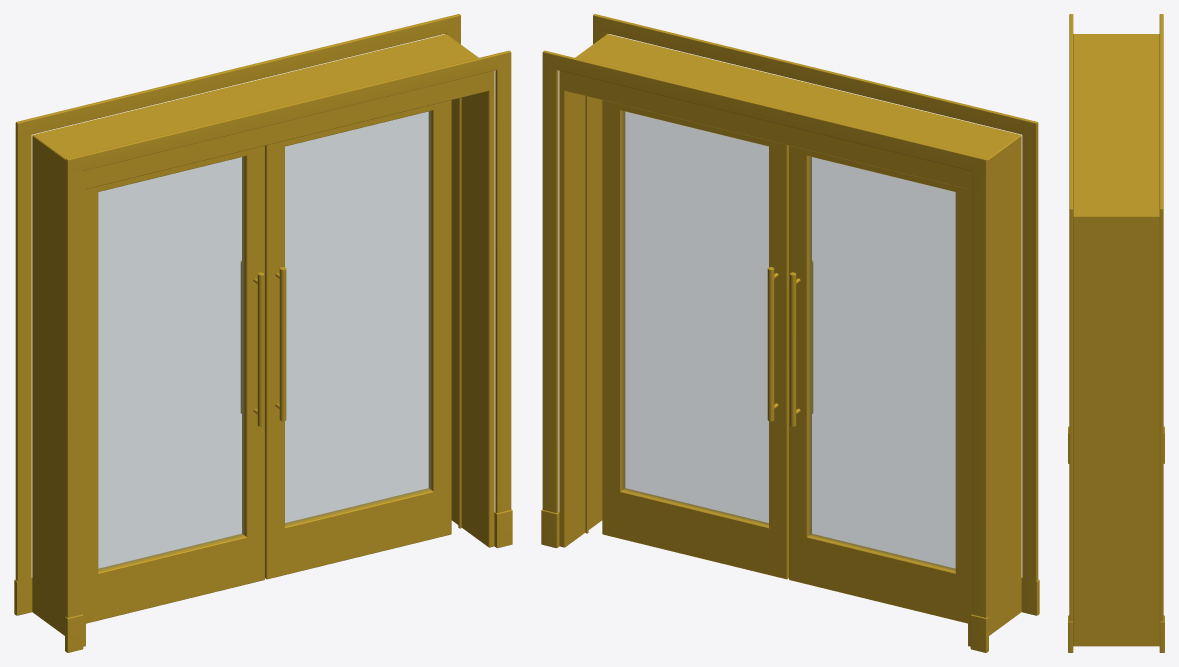
File: prop_door_double_glass_t40.glb
3 renders of one model, left to right at view 1: azimuth 30°, elevation 25°; view 2: azimuth 150°, elevation 25°; view 3: azimuth 270°, elevation 25°, orthographic. The views are drawn at different scales.
Visible parts, largest first — view 1: Frame, LeafMesh2, LeafMesh; view 2: Frame, LeafMesh2, LeafMesh; view 3: Frame.
Part boxes in pixels (bbox=[...]): Frame: bbox=[14, 14, 512, 652]; LeafMesh2: bbox=[265, 100, 451, 579]; LeafMesh: bbox=[86, 145, 264, 623]; Frame: bbox=[541, 14, 1039, 652]; LeafMesh2: bbox=[602, 100, 788, 579]; LeafMesh: bbox=[789, 145, 967, 623]; Frame: bbox=[1068, 14, 1164, 652].
Size of what is drawn, in the model's own units: 2.15 by 2.27 by 0.448.
